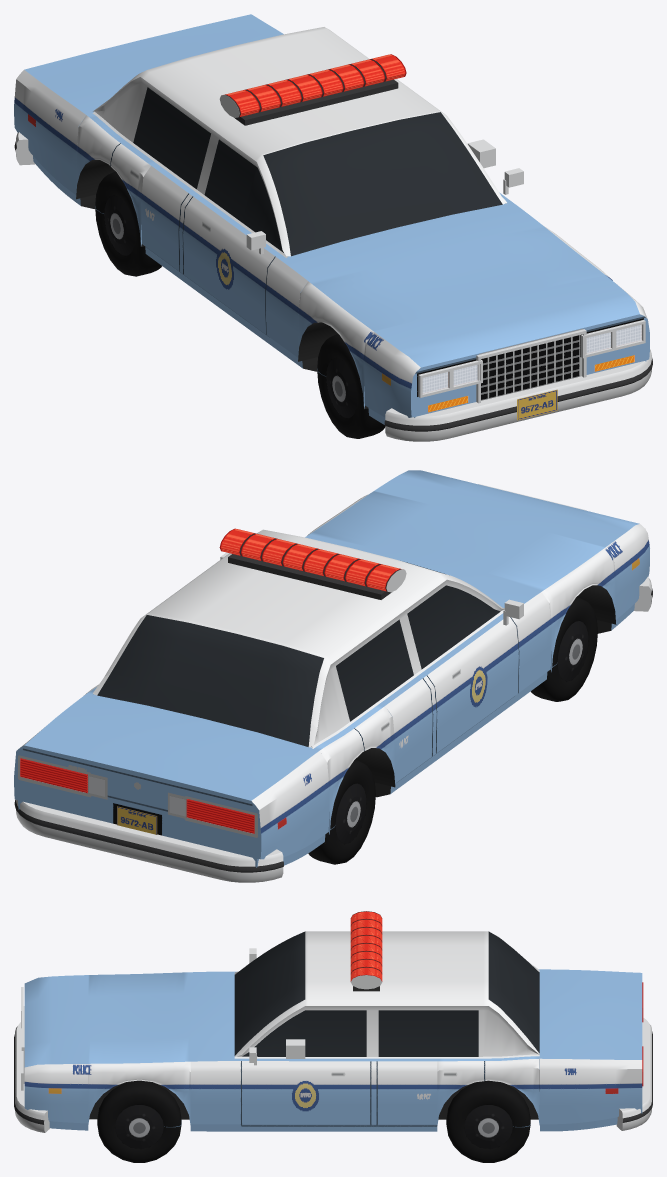
The model's file is nypd.glb.
3 views of the same model, one above another, from view 1: azimuth 30°, elevation 25°; view 2: azimuth 150°, elevation 25°; view 3: azimuth 270°, elevation 25° (orthographic). The views are drawn at different scales.
Visible parts, largest first — view 1: Body, Wheel_FR, Wheel_RR, HeadlightEmit; view 2: Body, Wheel_RR, Wheel_FR, TailLightEmit; view 3: Body, Wheel_FL, Wheel_RL.
Part boxes in pixels (<box>): Body: <box>14,14,652,441</box>; Wheel_FR: <box>317,334,385,438</box>; Wheel_RR: <box>95,171,161,276</box>; HeadlightEmit: <box>422,324,641,393</box>; Body: <box>14,470,652,882</box>; Wheel_RR: <box>308,759,375,864</box>; Wheel_FR: <box>531,597,597,701</box>; TailLightEmit: <box>20,758,254,833</box>; Body: <box>14,911,652,1132</box>; Wheel_FL: <box>97,1081,181,1162</box>; Wheel_RL: <box>446,1081,530,1162</box>.
Size of what is drawn, in the model's own units: 2.03 by 1.6 by 5.24.
Materials: 13 (13 with a texture image).
